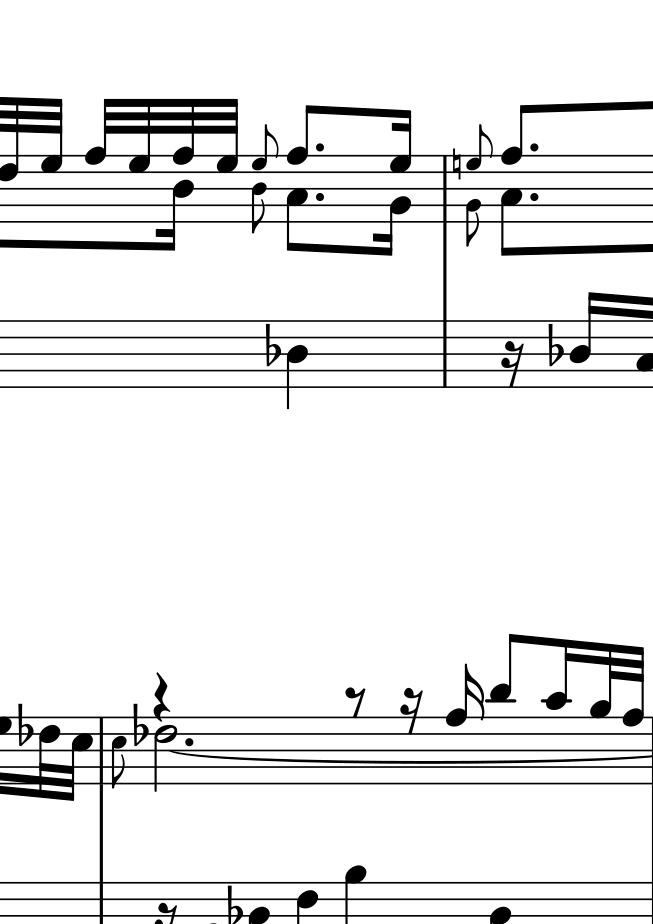16_10: (542, 639, 572, 785)
16_4: (158, 153, 194, 251), (568, 290, 601, 389)
16_6_7: (376, 108, 412, 257)
16_7: (215, 96, 240, 223)
16_8: (444, 661, 482, 787)
2_6: (153, 718, 177, 793)
32_5: (63, 716, 94, 803)
32_6: (1, 95, 19, 226), (37, 715, 61, 801)
32_7: (127, 98, 152, 223), (39, 98, 63, 223)
32_8: (84, 98, 115, 222), (622, 647, 644, 786)
32_9: (589, 643, 616, 787)
4_4: (285, 319, 309, 410)
8_11: (488, 630, 523, 788)
8_3_8: (501, 104, 533, 257), (286, 105, 315, 253)
Flat: (544, 320, 564, 369), (263, 322, 282, 369), (15, 702, 32, 749), (131, 702, 148, 749), (225, 884, 242, 924)
Natural: (451, 148, 462, 181)
Rests16: (500, 339, 525, 390), (399, 686, 424, 735)
Rests4: (152, 671, 170, 723)
Rests8: (343, 684, 367, 719)
Single_barline: (437, 320, 453, 387), (94, 717, 110, 784)
dot: (312, 189, 327, 204), (312, 140, 327, 155), (526, 190, 541, 204), (526, 139, 540, 154), (182, 735, 195, 748)
